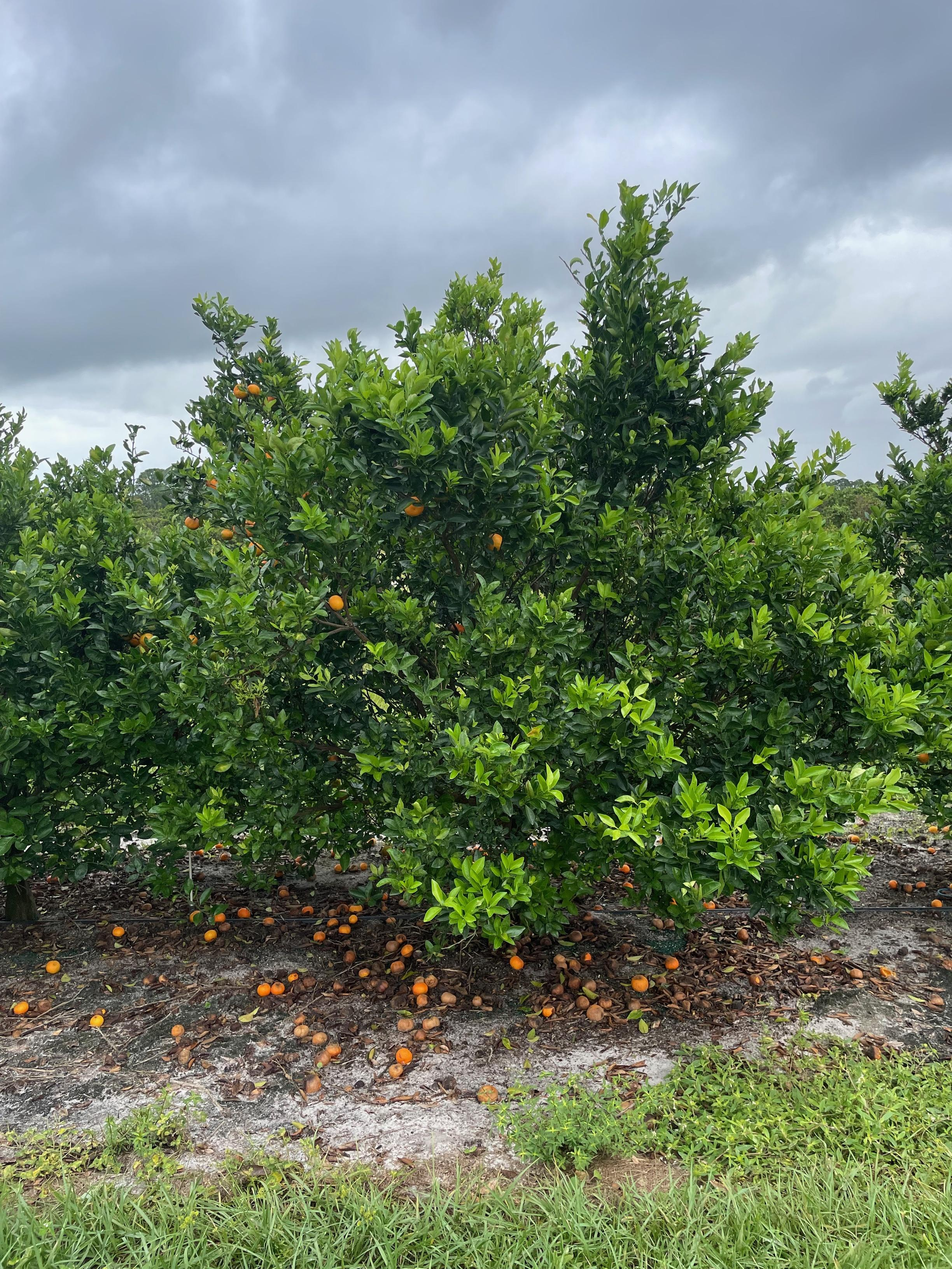fruit_on_ground: (401, 494, 427, 518), (484, 531, 507, 554), (238, 517, 260, 540), (327, 593, 346, 613), (204, 475, 223, 493), (127, 630, 145, 649), (232, 382, 250, 401), (138, 631, 157, 649), (247, 539, 265, 557), (915, 748, 932, 766), (183, 514, 201, 531), (449, 621, 467, 637), (245, 383, 261, 399), (219, 527, 235, 542), (186, 632, 200, 647), (380, 844, 394, 857)
fruit_on_tree: (476, 1083, 500, 1105), (301, 1073, 322, 1094), (630, 974, 650, 992), (438, 989, 458, 1006), (395, 1046, 413, 1064), (586, 1004, 605, 1021), (508, 954, 527, 971), (421, 1015, 441, 1031), (35, 996, 53, 1013), (12, 998, 30, 1015), (43, 958, 62, 974), (292, 1024, 312, 1039), (663, 954, 680, 971), (189, 908, 207, 924), (397, 1017, 415, 1033), (387, 1063, 405, 1079), (314, 1050, 333, 1065), (583, 979, 600, 995), (876, 963, 894, 978), (388, 960, 406, 975), (311, 1030, 329, 1045), (735, 926, 751, 942), (413, 994, 430, 1009), (412, 980, 429, 995), (325, 1042, 343, 1056), (423, 973, 439, 988), (89, 1014, 105, 1029), (170, 1022, 186, 1037), (255, 981, 271, 996), (270, 981, 286, 996), (701, 898, 718, 912), (111, 923, 126, 938), (400, 942, 415, 957), (747, 972, 763, 986), (849, 966, 865, 980), (574, 994, 590, 1008), (550, 982, 566, 996), (384, 938, 401, 951), (598, 995, 613, 1009), (567, 975, 582, 989), (203, 928, 218, 942), (374, 979, 390, 992), (292, 1012, 308, 1025), (301, 975, 316, 988), (237, 905, 252, 918), (620, 880, 636, 892), (471, 994, 485, 1007), (413, 1029, 427, 1042), (618, 863, 632, 876), (651, 916, 664, 930), (343, 950, 357, 963), (663, 916, 676, 929), (217, 921, 231, 933), (541, 1005, 555, 1017), (930, 896, 944, 908), (212, 911, 226, 923), (312, 930, 326, 942), (356, 967, 370, 979), (338, 923, 352, 935), (569, 930, 582, 942), (142, 973, 155, 985), (287, 970, 300, 982), (326, 916, 339, 928), (301, 904, 315, 915), (366, 836, 378, 848), (667, 895, 679, 907), (346, 914, 358, 926), (581, 950, 593, 962), (888, 878, 900, 890), (156, 973, 169, 984), (46, 873, 59, 884), (336, 903, 349, 914), (349, 903, 362, 914), (332, 980, 345, 991), (218, 851, 231, 862), (262, 914, 275, 925), (940, 823, 951, 835), (394, 931, 406, 942), (592, 902, 604, 913), (194, 870, 206, 881), (357, 860, 369, 871), (278, 886, 290, 897), (915, 879, 927, 890), (902, 882, 914, 893), (379, 891, 390, 902), (273, 869, 285, 879), (413, 917, 424, 927), (927, 823, 938, 833), (294, 854, 305, 864), (332, 863, 343, 873), (327, 907, 338, 917), (385, 916, 397, 925), (851, 834, 861, 844), (926, 846, 937, 855), (194, 847, 205, 855), (213, 841, 224, 849), (847, 833, 856, 841)
